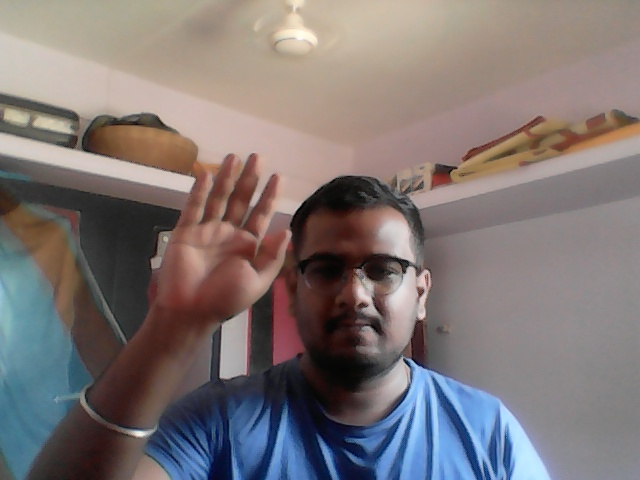Hello: (152, 152, 295, 331)
